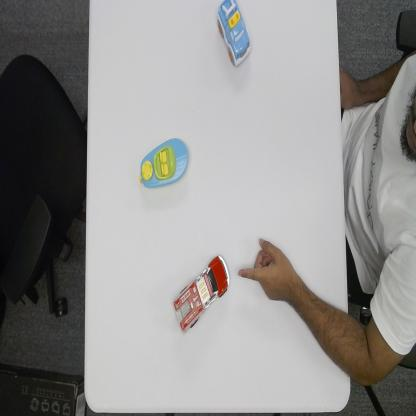Arm: (287, 281, 350, 367)
Boat: (138, 135, 190, 190)
Car: (216, 0, 252, 67)
Firetruck: (173, 251, 230, 336)
Hand: (238, 235, 291, 306)
